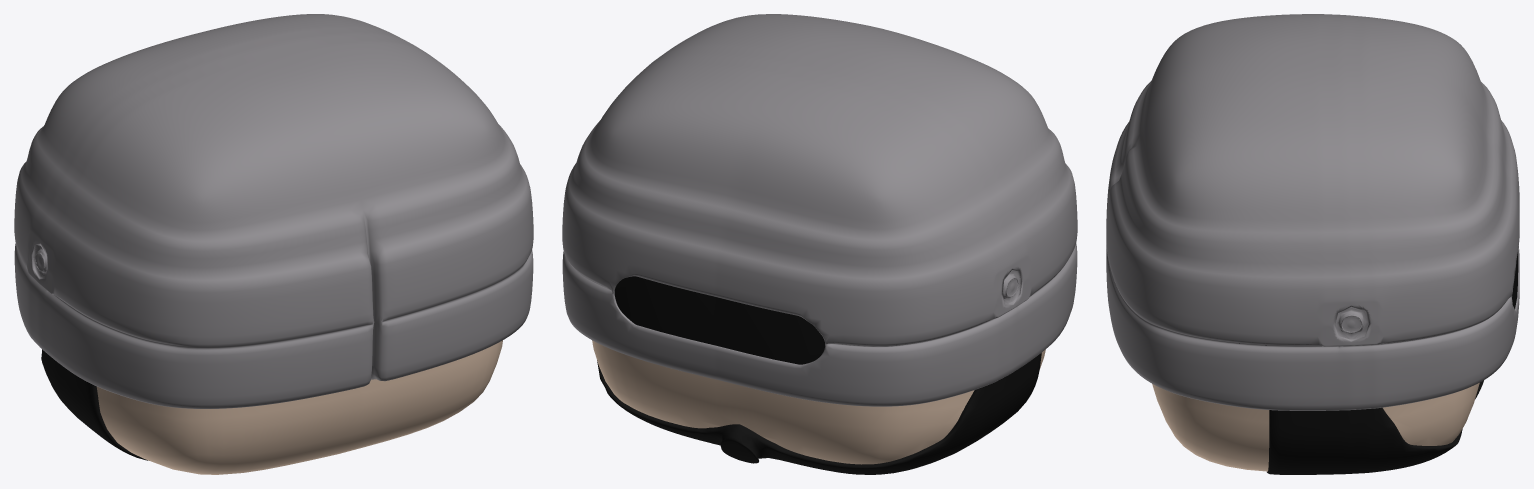
The model's file is RoboCop.fbx.
The picture shows the model from 3 angles, left to right: view 1: azimuth 30°, elevation 25°; view 2: azimuth 150°, elevation 25°; view 3: azimuth 270°, elevation 25°; orthographic projection.
Parts seen in each view (by area): view 1: Helmet, Face, HelmetBelt; view 2: Helmet, Face, Visor, HelmetBelt; view 3: Helmet, Face, HelmetBelt.
Part boxes in pixels (<box>): Helmet: <box>14,14,533,408</box>; Face: <box>96,340,502,474</box>; HelmetBelt: <box>41,349,147,460</box>; Helmet: <box>562,14,1077,406</box>; Face: <box>592,340,1045,464</box>; Visor: <box>614,276,824,364</box>; HelmetBelt: <box>597,353,1041,474</box>; Helmet: <box>1106,14,1519,410</box>; Face: <box>1152,383,1479,471</box>; HelmetBelt: <box>1267,380,1483,474</box>.
Bounding box in the file's own units: 44.81 × 36.27 × 37.54.
